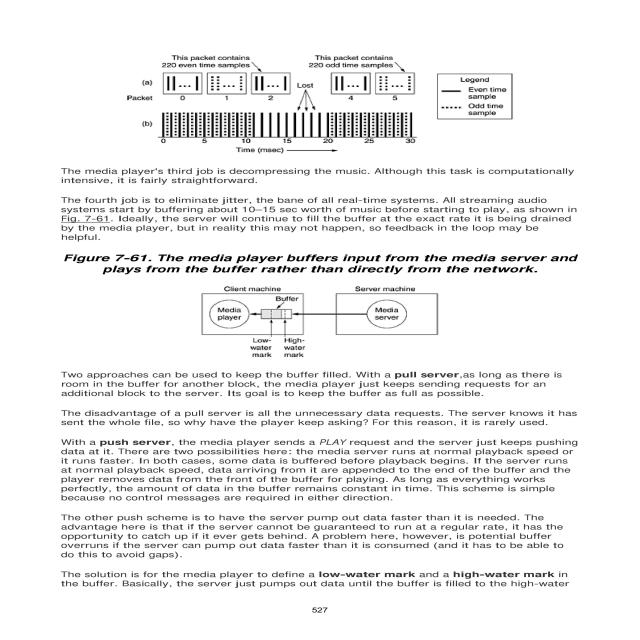diagram: (44, 250, 605, 402), (36, 37, 587, 190)
